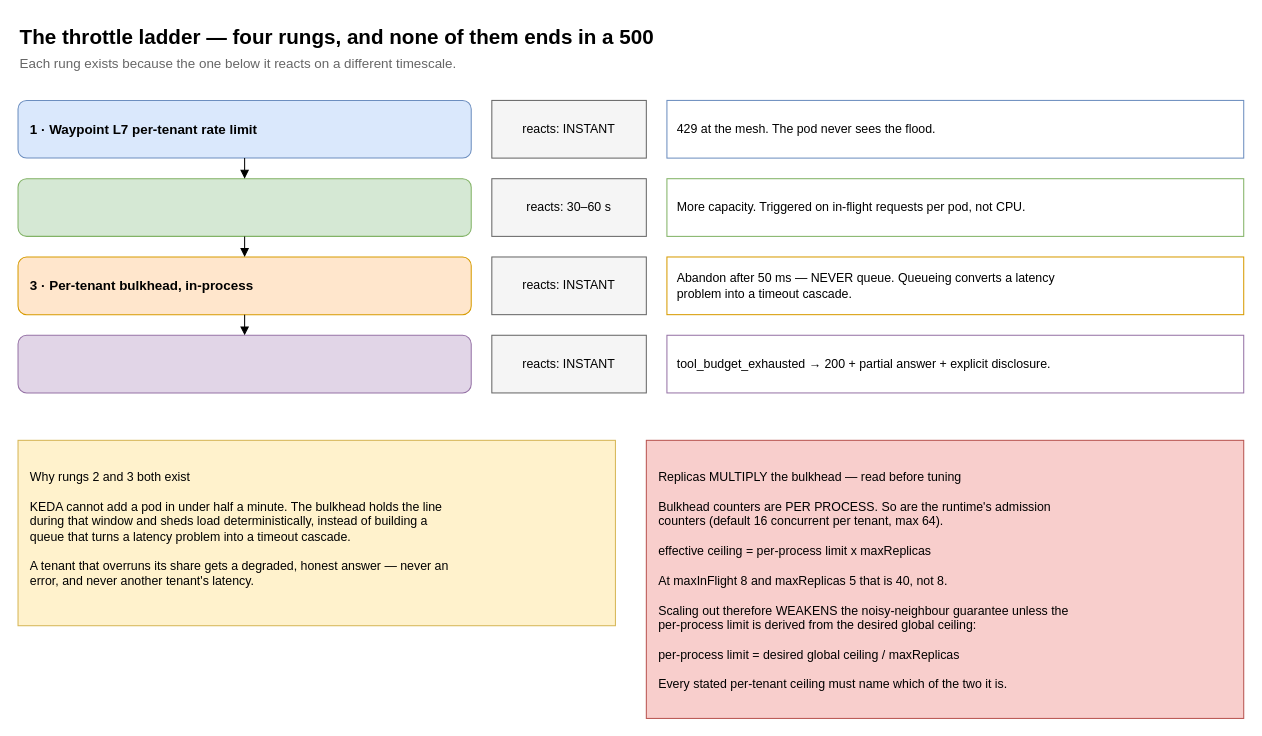
Some shapes in this 1262 by 736 pixel diagram are drawn without their labels. The box of each missing label's shape, as (x1, y1, x2, y2) in pixels:
2 · KEDA scale-out 1 → 5: (17, 178, 471, 236)
4 · Engine degradation: (17, 334, 471, 393)
